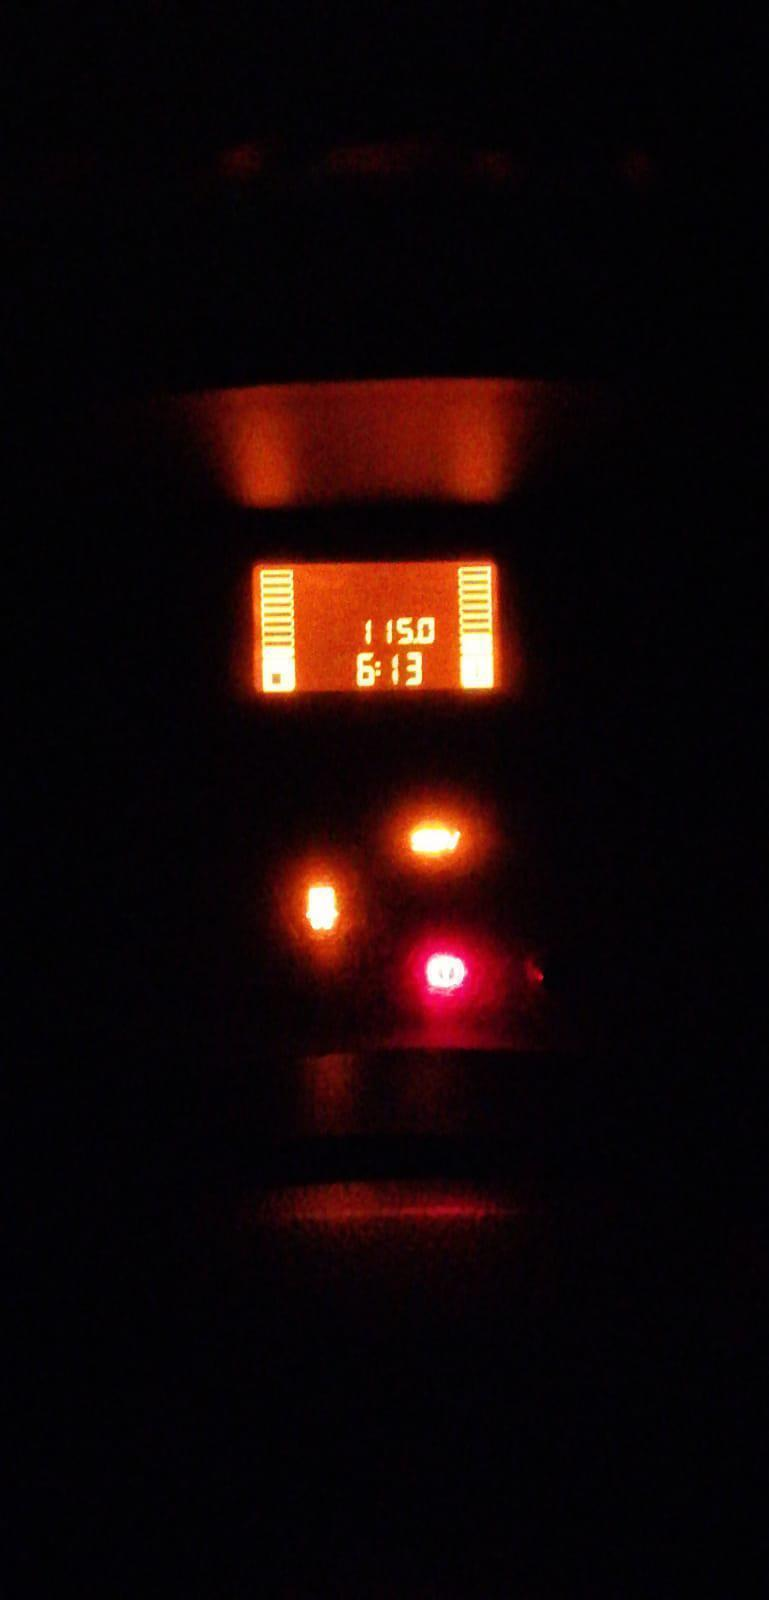,: (411, 637, 418, 645)
0: (416, 616, 435, 644)
1: (390, 652, 399, 686), (363, 618, 372, 645), (385, 618, 392, 645)
3: (404, 651, 423, 686)
5: (395, 616, 413, 645)
6: (355, 652, 375, 687)
X: (374, 660, 382, 677)
odometer: (249, 558, 502, 695)
